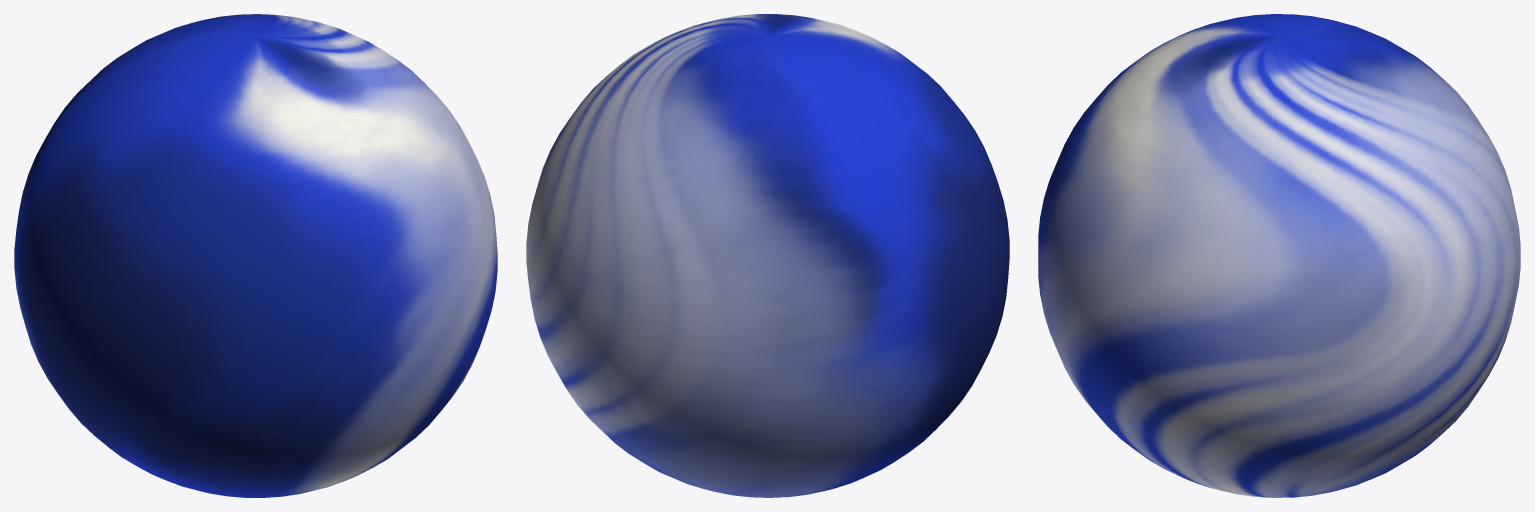
File: China_Marble.fbx
3 renders of one model, left to right at view 1: azimuth 30°, elevation 25°; view 2: azimuth 150°, elevation 25°; view 3: azimuth 270°, elevation 25°, orthographic.
Visible parts, largest first — view 1: China; view 2: China; view 3: China.
Part boxes in pixels (left/top/right/bottom): China: left=14, top=14, right=497, bottom=497; China: left=526, top=14, right=1009, bottom=497; China: left=1038, top=14, right=1520, bottom=497.
Size of the model in its own units: 200 by 200 by 199.
Materials: 1 (1 with a texture image).
